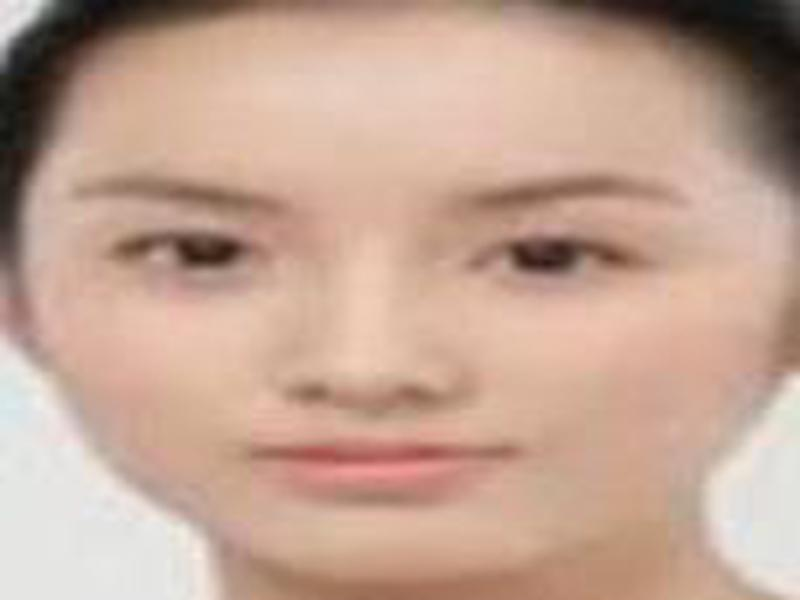without_mask: (17, 68, 797, 582)
